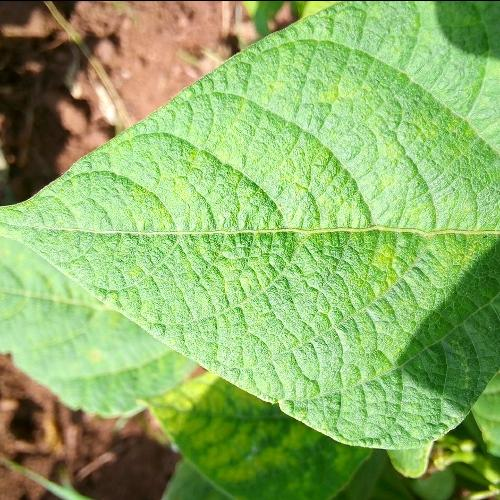mozaik: (239, 78, 480, 378)
